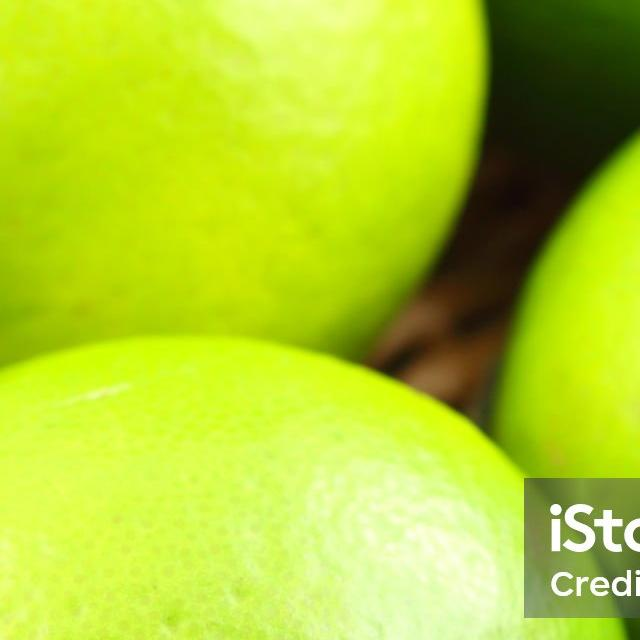lime: (0, 336, 632, 640)
